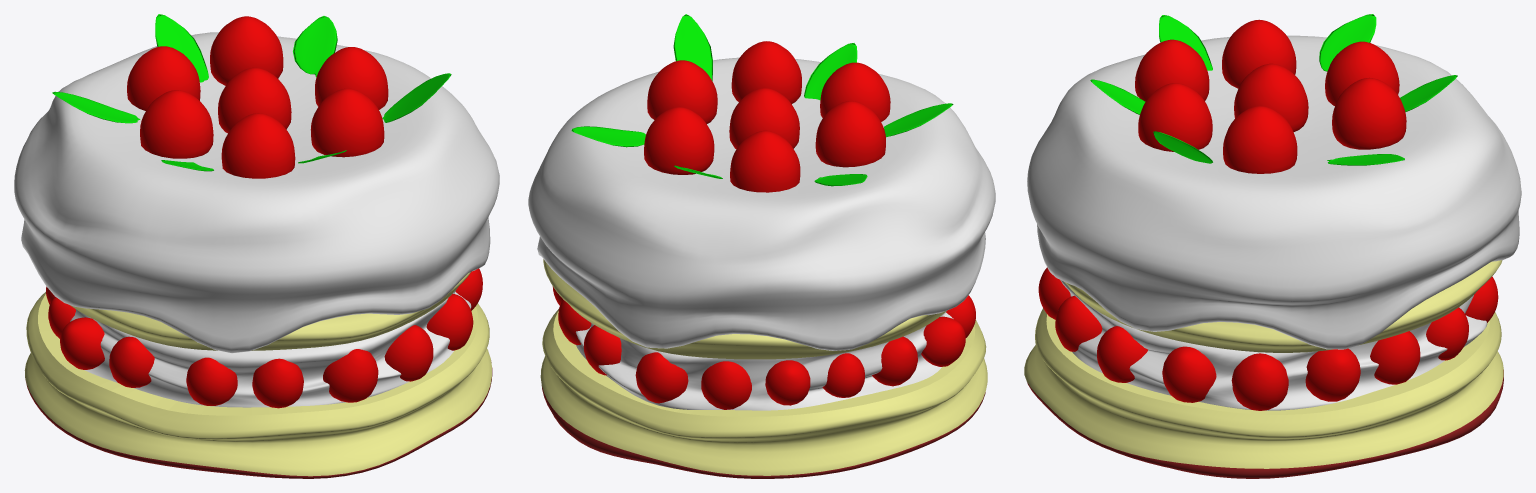
The model's file is ケーキ.fbx.
The picture shows the model from 3 angles, left to right: view 1: azimuth 30°, elevation 25°; view 2: azimuth 150°, elevation 25°; view 3: azimuth 270°, elevation 25°; orthographic projection. The views are drawn at different scales.
Parts seen in each view (by area): view 1: pCylinder5, pCylinder4, pCylinder3, pSphere4, pSphere1, pSphere6, pSphere5, pSphere8, pSphere7, pSphere3, pSphere13, pSphere23 (+11 smaller); view 2: pCylinder5, pCylinder4, pCylinder3, pSphere5, pSphere4, pSphere7, pSphere3, pSphere1, pSphere8, pSphere6, pSphere19, pSphere18 (+12 smaller); view 3: pCylinder5, pCylinder4, pCylinder3, pSphere5, pSphere3, pSphere1, pSphere4, pSphere8, pSphere6, pSphere7, pSphere9, pSphere14 (+13 smaller).
Boxes of the visible parts, bbox=[...] form: pCylinder5: bbox=[14, 32, 499, 353]; pCylinder4: bbox=[24, 272, 492, 478]; pCylinder3: bbox=[70, 290, 471, 407]; pSphere4: bbox=[140, 90, 213, 158]; pSphere1: bbox=[310, 88, 384, 157]; pSphere6: bbox=[221, 113, 295, 178]; pSphere5: bbox=[210, 16, 283, 85]; pSphere8: bbox=[218, 67, 291, 133]; pSphere7: bbox=[127, 46, 200, 110]; pSphere3: bbox=[315, 47, 388, 109]; pSphere13: bbox=[323, 349, 378, 402]; pSphere23: bbox=[252, 358, 303, 408]; pCylinder5: bbox=[528, 57, 995, 350]; pCylinder4: bbox=[540, 259, 987, 478]; pCylinder3: bbox=[576, 312, 953, 410]; pSphere5: bbox=[644, 107, 714, 174]; pSphere4: bbox=[815, 101, 885, 167]; pSphere7: bbox=[730, 130, 800, 192]; pSphere3: bbox=[647, 60, 717, 123]; pSphere1: bbox=[731, 41, 801, 103]; pSphere8: bbox=[729, 88, 799, 149]; pSphere6: bbox=[820, 62, 890, 121]; pSphere19: bbox=[635, 352, 688, 403]; pSphere18: bbox=[701, 361, 751, 409]; pCylinder5: bbox=[1027, 35, 1521, 349]; pCylinder4: bbox=[1024, 260, 1503, 478]; pCylinder3: bbox=[1060, 280, 1487, 410]; pSphere5: bbox=[1332, 77, 1406, 149]; pSphere3: bbox=[1223, 106, 1297, 173]; pSphere1: bbox=[1138, 83, 1212, 151]; pSphere4: bbox=[1222, 19, 1296, 88]; pSphere8: bbox=[1234, 63, 1308, 131]; pSphere6: bbox=[1135, 39, 1209, 101]; pSphere7: bbox=[1325, 41, 1399, 105]; pSphere9: bbox=[1231, 353, 1288, 410]; pSphere14: bbox=[1305, 348, 1360, 401].
Bounding box in the file's own units: 2.23 × 1.64 × 2.25.
